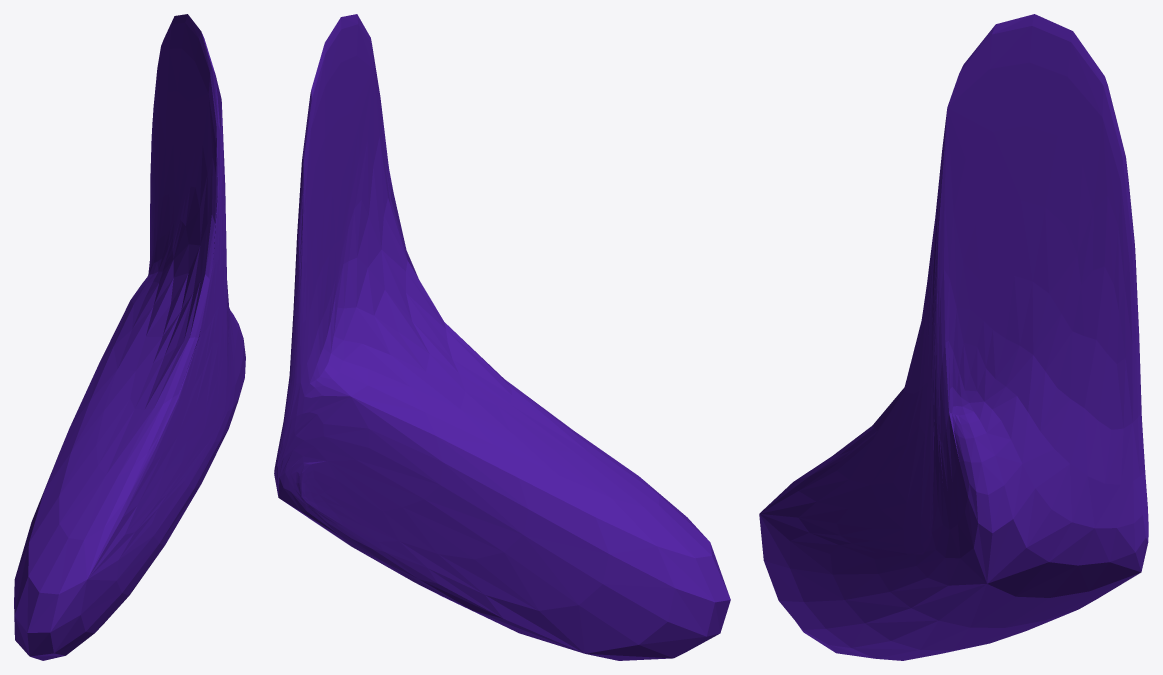
The picture shows the model from 3 angles, left to right: view 1: azimuth 30°, elevation 25°; view 2: azimuth 150°, elevation 25°; view 3: azimuth 270°, elevation 25°; orthographic projection. The views are drawn at different scales.
Parts seen in each view (by area): view 1: 799_Cube.3220; view 2: 799_Cube.3220; view 3: 799_Cube.3220.
Boxes of the visible parts, x1,y1,x2,y2 form: 799_Cube.3220: (14, 14, 245, 660); 799_Cube.3220: (274, 14, 730, 660); 799_Cube.3220: (759, 14, 1148, 660).
Size of the model in its own units: 8.92 by 16.11 by 7.4.
